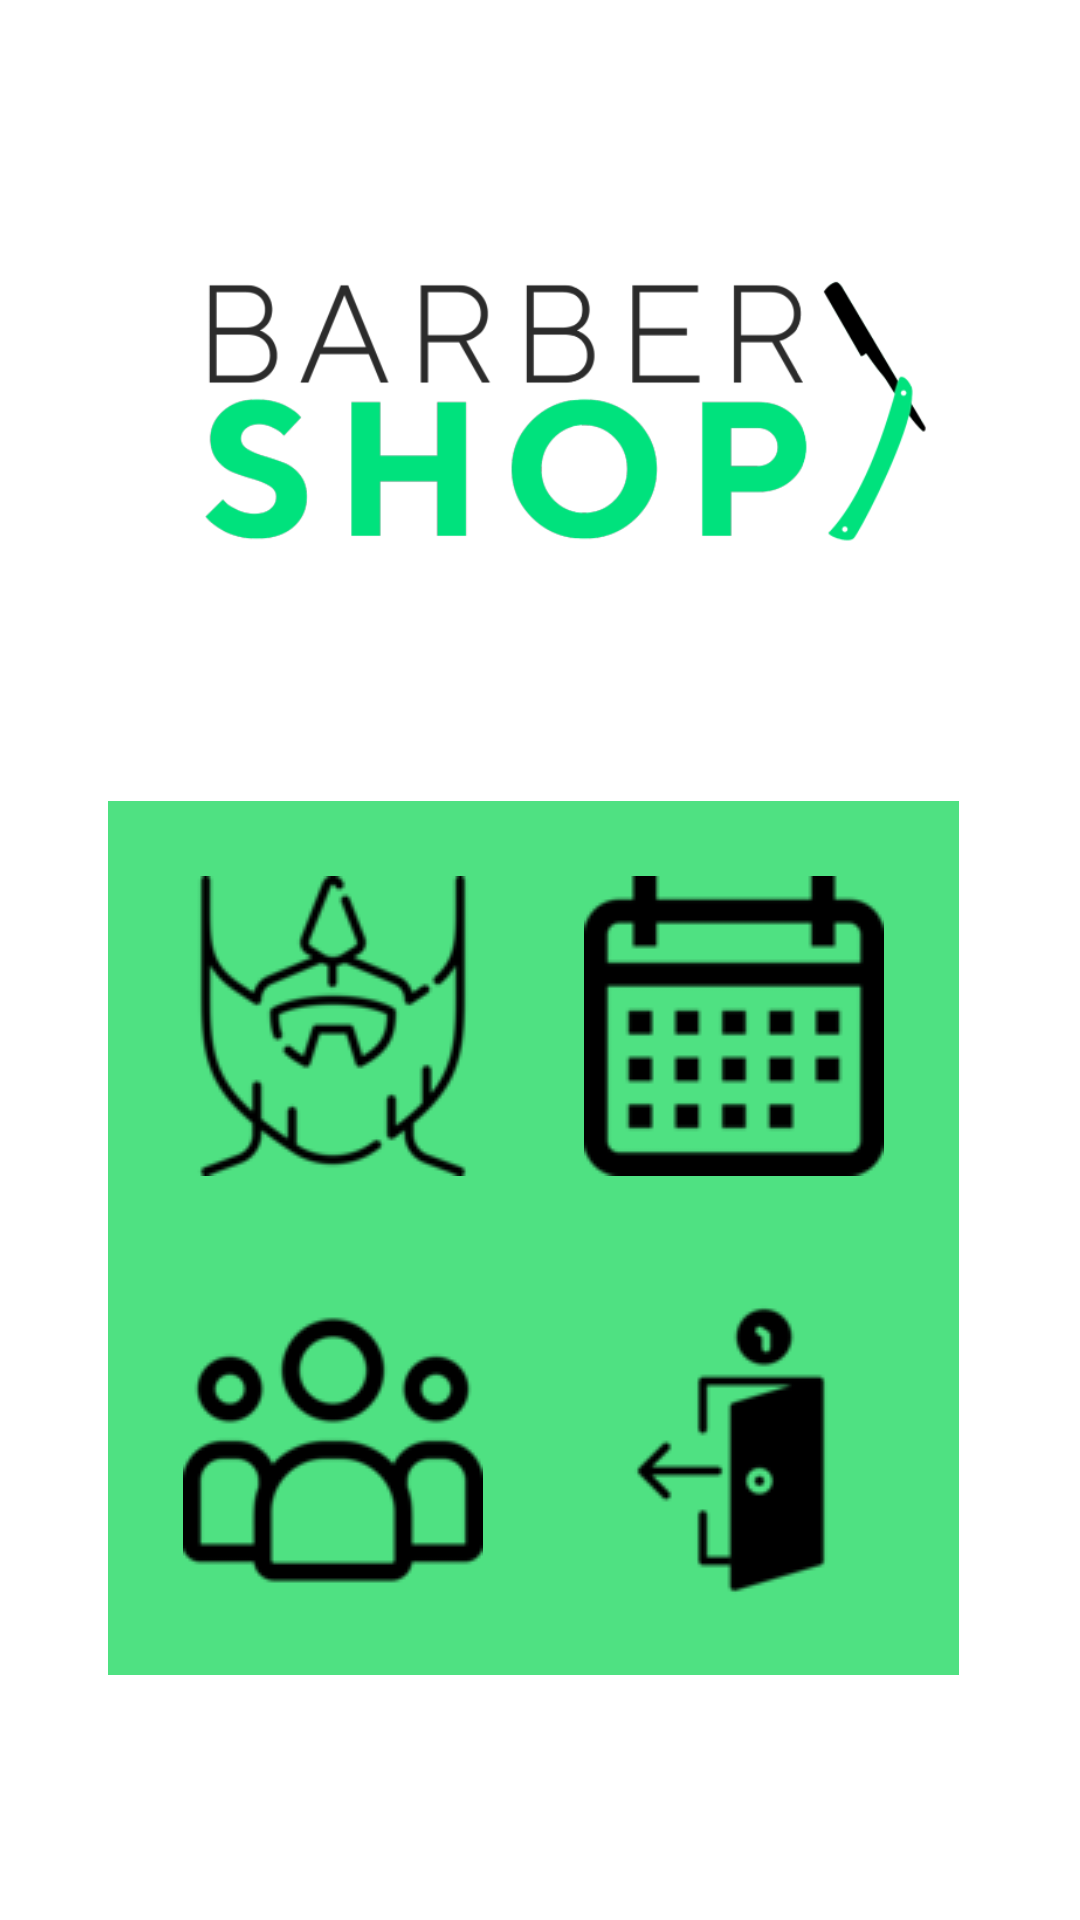

Where icons sit on this 1080px x 1920px app screen, as detection(x1, y1, x2, y2):
calendario: detection(584, 876, 884, 1176)
cliente: detection(183, 1317, 483, 1583)
corte: detection(200, 876, 466, 1176)
retornar: detection(637, 1308, 825, 1592)
